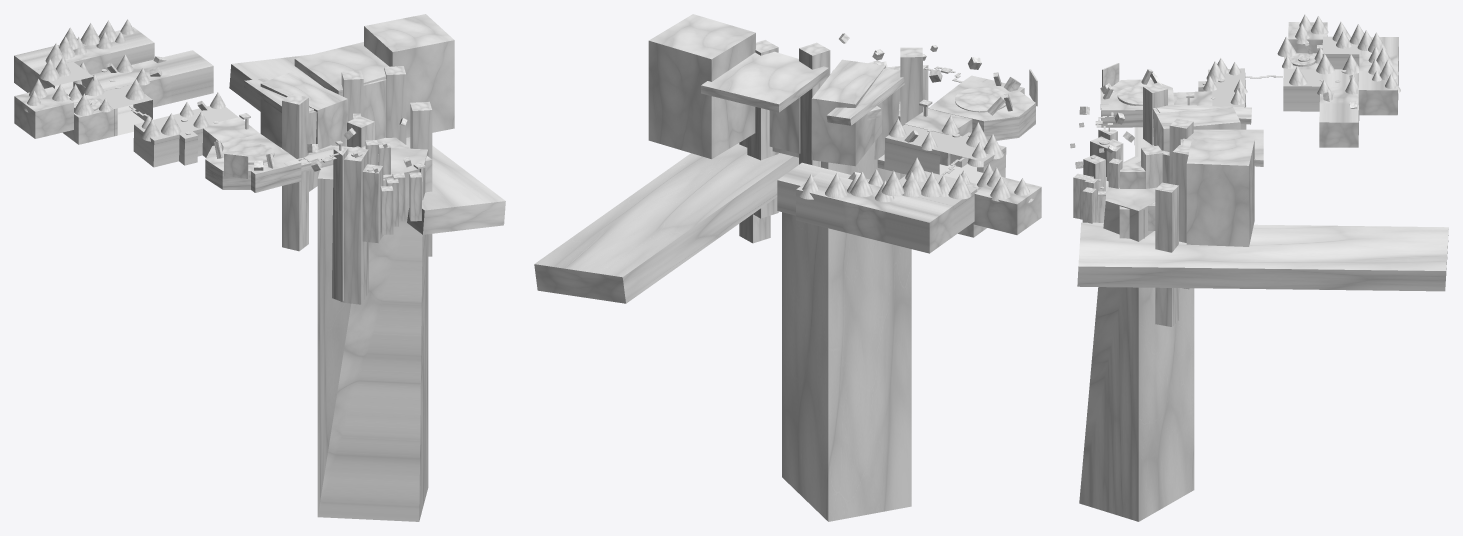
The model's file is lvl2-blockout.gltf.
3 views of the same model, side by side, from view 1: azimuth 30°, elevation 25°; view 2: azimuth 150°, elevation 25°; view 3: azimuth 270°, elevation 25° (orthographic). The views are drawn at different scales.
Parts seen in each view (by area): view 1: Cube.195; view 2: Cube.195; view 3: Cube.195.
Part boxes in pixels (x1=…): Cube.195: x1=14, y1=14, x2=505, y2=521; Cube.195: x1=534, y1=14, x2=1041, y2=521; Cube.195: x1=1070, y1=14, x2=1448, y2=521.
Bounding box in the file's own units: 351 × 382 × 339.
Materials: 1 (1 with a texture image).
